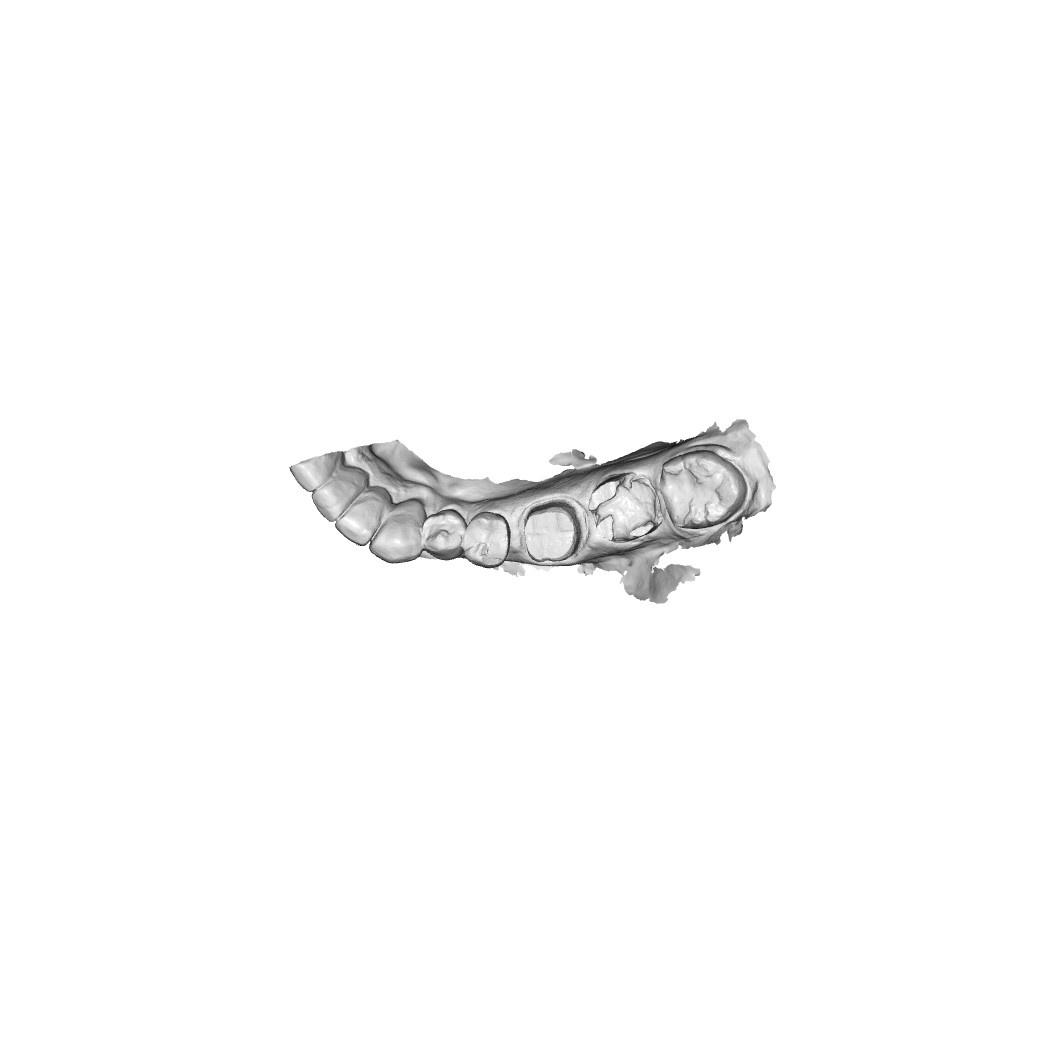crown: (523, 507, 580, 561)
incisor: (370, 507, 431, 560), (338, 492, 387, 549), (309, 470, 364, 516)
molar: (661, 452, 742, 525)
premolar: (422, 507, 467, 557), (463, 516, 509, 561)
